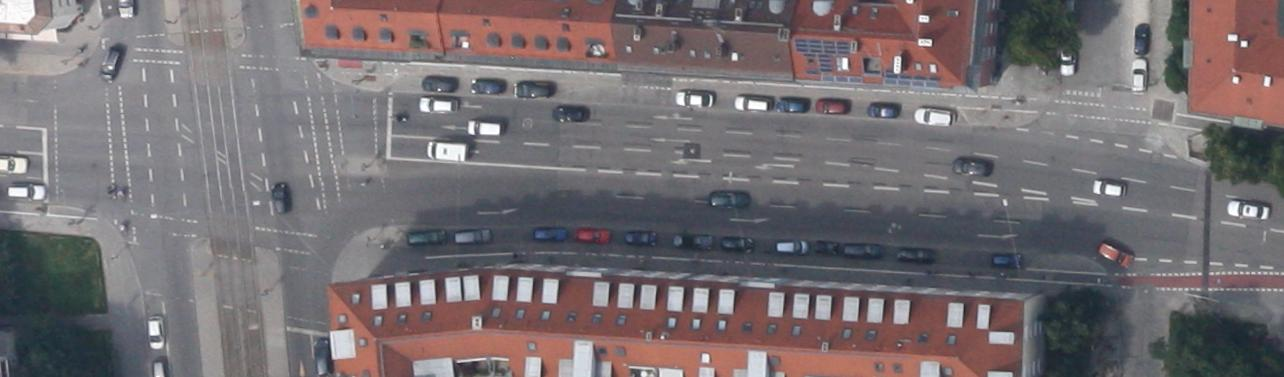car: (96, 47, 124, 84), (1097, 241, 1134, 269), (1226, 199, 1271, 221), (951, 156, 993, 177), (912, 107, 955, 126), (708, 190, 750, 208), (514, 80, 555, 98), (672, 233, 713, 250), (897, 247, 936, 264), (406, 230, 447, 246), (316, 339, 334, 375), (552, 105, 590, 122), (1092, 179, 1126, 198), (6, 184, 45, 200), (674, 92, 713, 108), (776, 238, 810, 256), (421, 76, 459, 92), (419, 97, 458, 112), (866, 101, 900, 118), (272, 182, 290, 214), (466, 120, 502, 136), (1060, 39, 1076, 75), (455, 228, 491, 244), (844, 243, 882, 258), (991, 252, 1022, 270), (148, 316, 164, 350), (624, 230, 658, 246), (722, 236, 754, 253), (817, 98, 850, 114), (1131, 59, 1147, 92), (471, 78, 502, 95), (734, 97, 771, 111), (778, 97, 810, 113), (577, 229, 610, 244), (1134, 24, 1150, 54), (534, 227, 566, 242), (815, 239, 839, 256)
